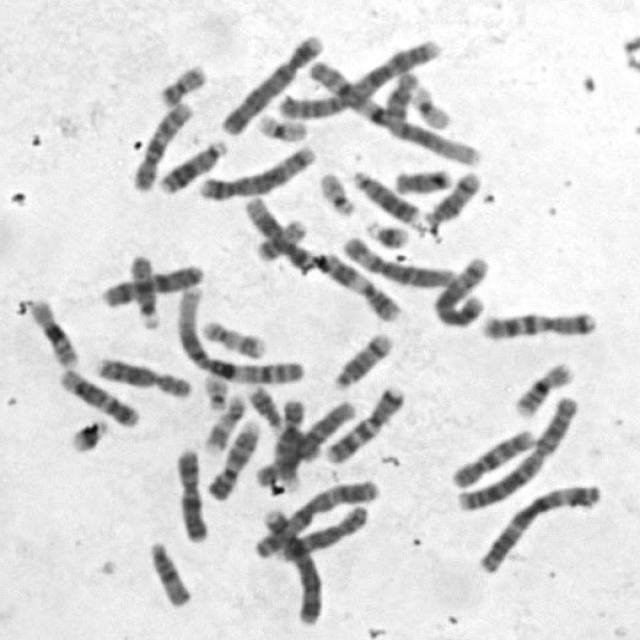A1: (301, 52, 484, 168), (171, 280, 308, 388)
A2: (448, 388, 582, 513), (272, 33, 444, 121)
A3: (472, 476, 606, 576), (251, 474, 383, 562)
B4: (217, 28, 328, 138), (256, 501, 326, 627)
B5: (194, 139, 319, 202), (429, 249, 494, 329)
C10: (125, 94, 194, 194), (445, 421, 538, 491)
C11: (314, 248, 403, 324), (241, 382, 322, 463)
C12: (53, 362, 142, 430), (242, 194, 314, 273)
C6: (250, 395, 358, 489), (338, 230, 460, 290)
C7: (321, 380, 409, 466), (474, 304, 598, 341)
C8: (270, 498, 372, 564), (90, 350, 196, 400)
C9: (203, 413, 264, 502), (269, 394, 306, 489)
D13: (152, 133, 230, 196), (347, 164, 422, 226)
D14: (329, 327, 397, 391), (422, 164, 486, 228)
D15: (144, 533, 195, 609), (124, 249, 162, 330)
E16: (21, 292, 81, 370), (507, 356, 576, 418)
E17: (198, 312, 271, 360), (198, 388, 249, 454)
E18: (379, 66, 422, 126), (388, 163, 453, 195)
F19: (404, 76, 453, 130), (250, 108, 310, 144)
F20: (250, 213, 310, 264), (154, 58, 210, 108)
G21: (64, 412, 110, 454), (361, 214, 413, 250)
G22: (314, 166, 358, 218), (198, 368, 232, 413)
X: (97, 258, 208, 308), (170, 442, 212, 544)
